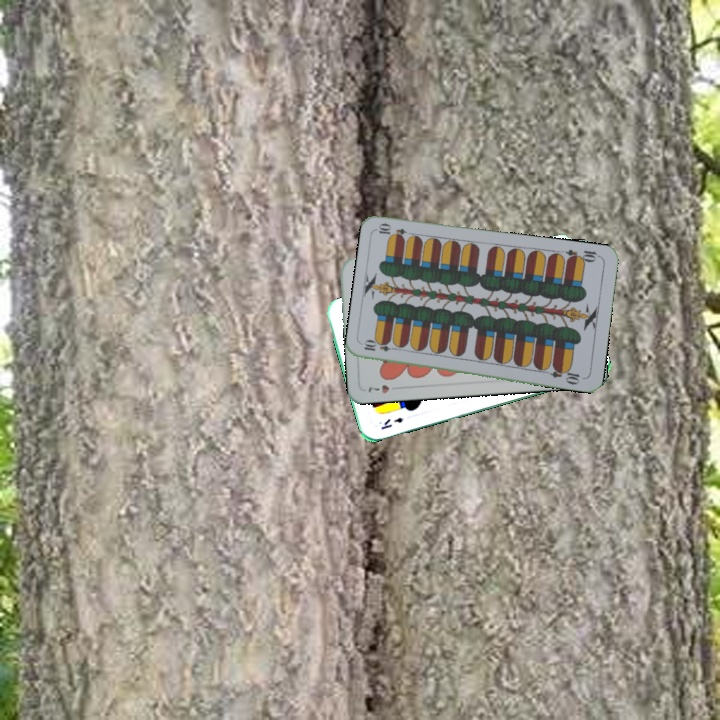E10: (562, 245, 603, 265), (360, 338, 401, 354)
EK: (377, 413, 406, 432)
H7: (364, 381, 403, 396)
